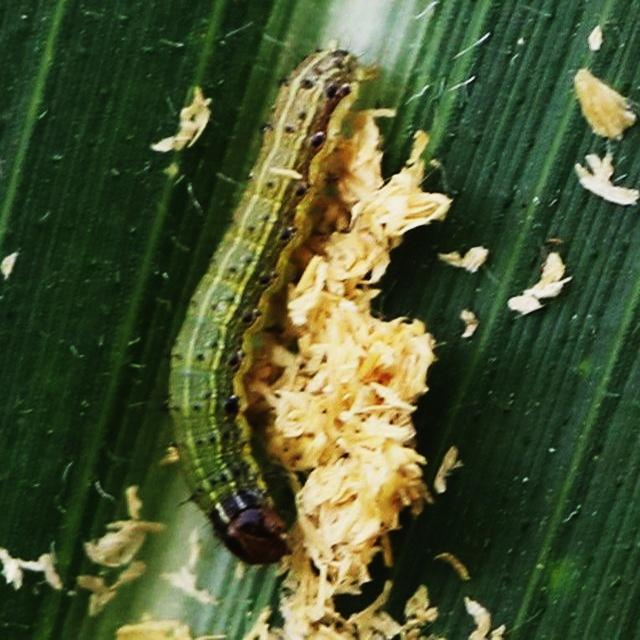gusano_cogollero: (166, 44, 377, 573)
